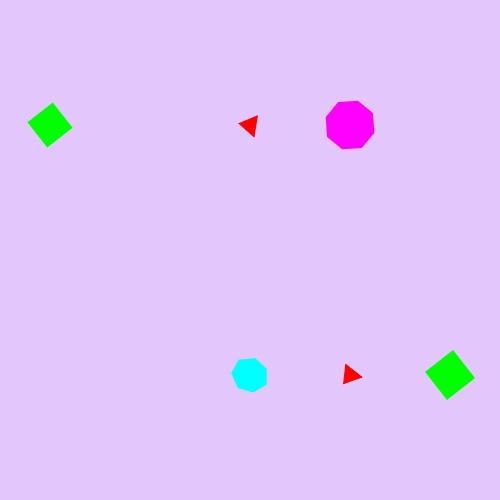heptagon: (228, 354, 272, 396)
octagon: (321, 96, 380, 155)
quadrilateral: (422, 347, 479, 404), (24, 99, 76, 151)
triangle: (236, 111, 264, 140), (337, 361, 364, 389)
